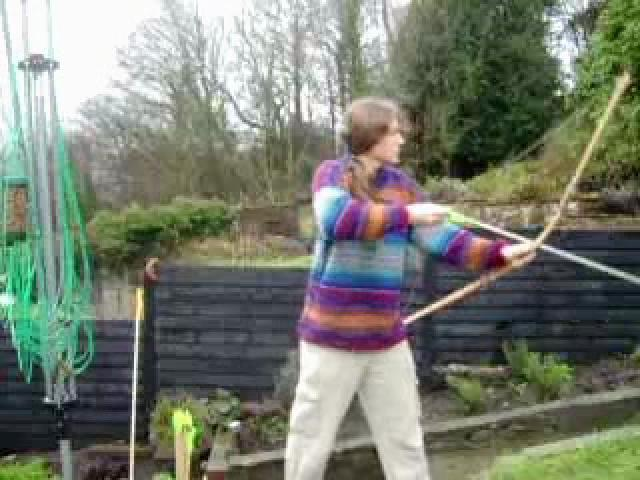I: (275, 95, 547, 480)
